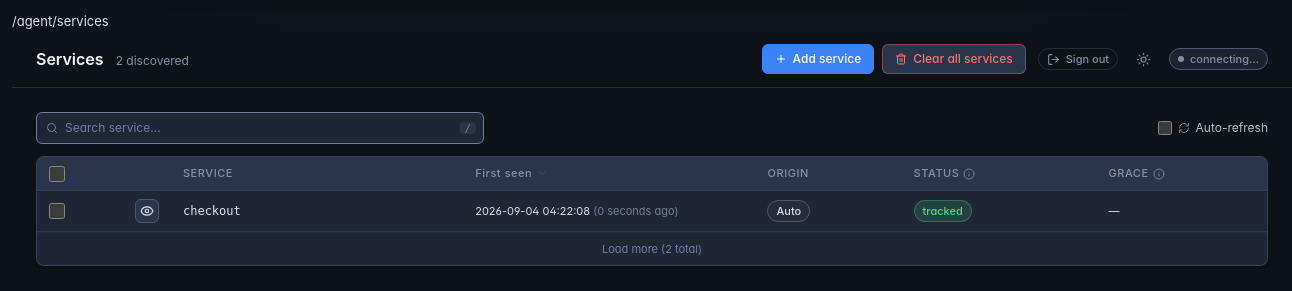
Test: ServicesPage — server-side paging › loads and merges the next page when Load more is clicked
This screenshot has width=1292, height=291.
Expected: the text "checkout" is shown, [171, 190, 463, 231]
Click the button "Load more (2 total)".
click(652, 248)  # box [602, 240, 702, 256]
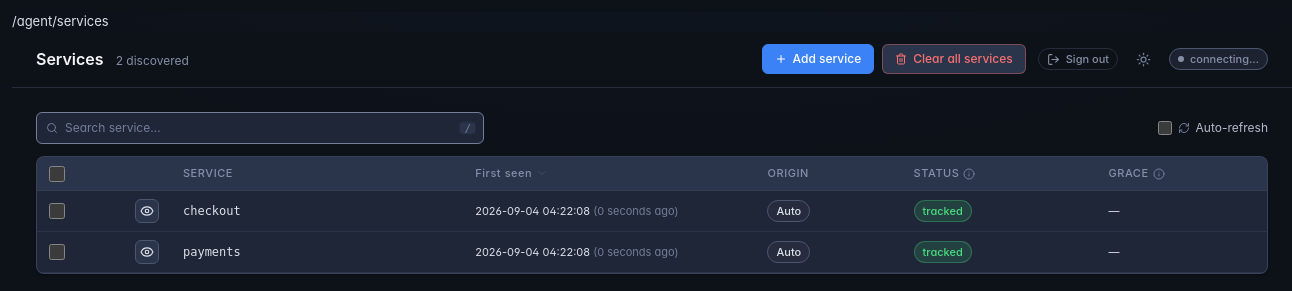
Expected: the text "checkout" is shown, [171, 190, 463, 231]
Expected: the text "payments" is shown, [171, 231, 463, 272]
